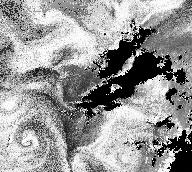CE: (11, 108, 54, 153)
